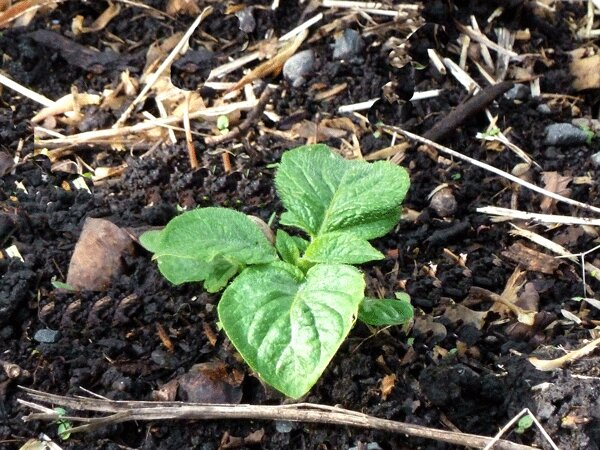potato_plant: (137, 138, 413, 401)
